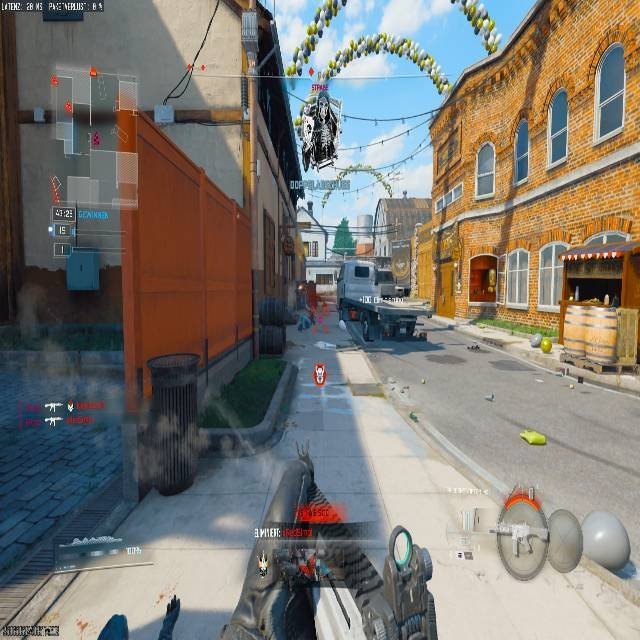player: (295, 280, 316, 332)
